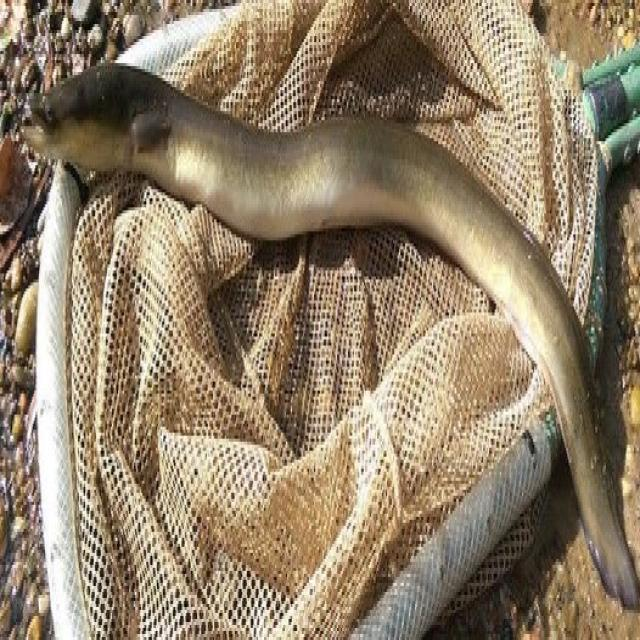Freshwater-Eel: (0, 34, 640, 567)
